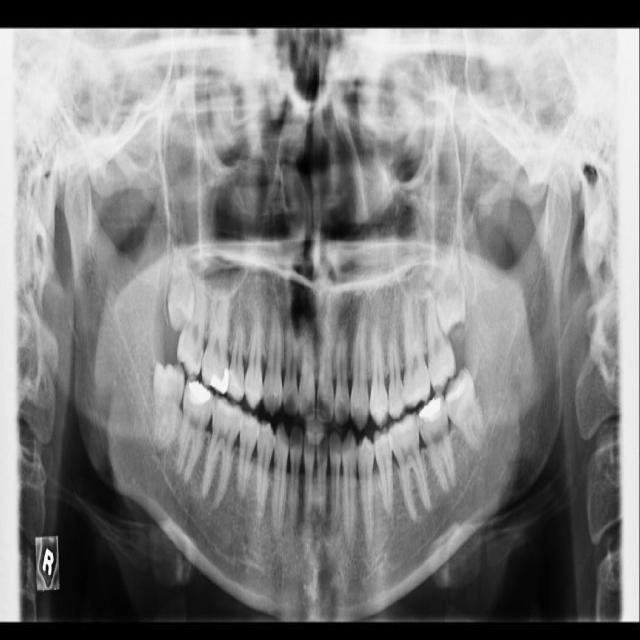Filling: (188, 380, 211, 409), (210, 365, 229, 395), (444, 378, 466, 401), (421, 396, 443, 419)
impacted tooth: (446, 370, 487, 447), (153, 363, 183, 451), (436, 237, 463, 334), (168, 243, 195, 328)
